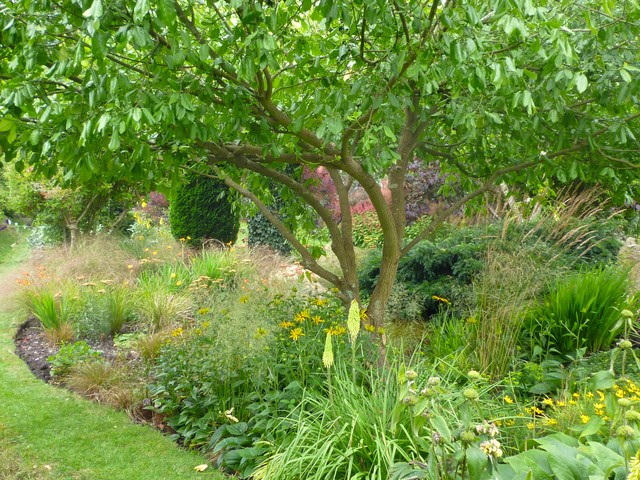grass: (0, 372, 213, 480)
tree: (268, 172, 411, 357)
